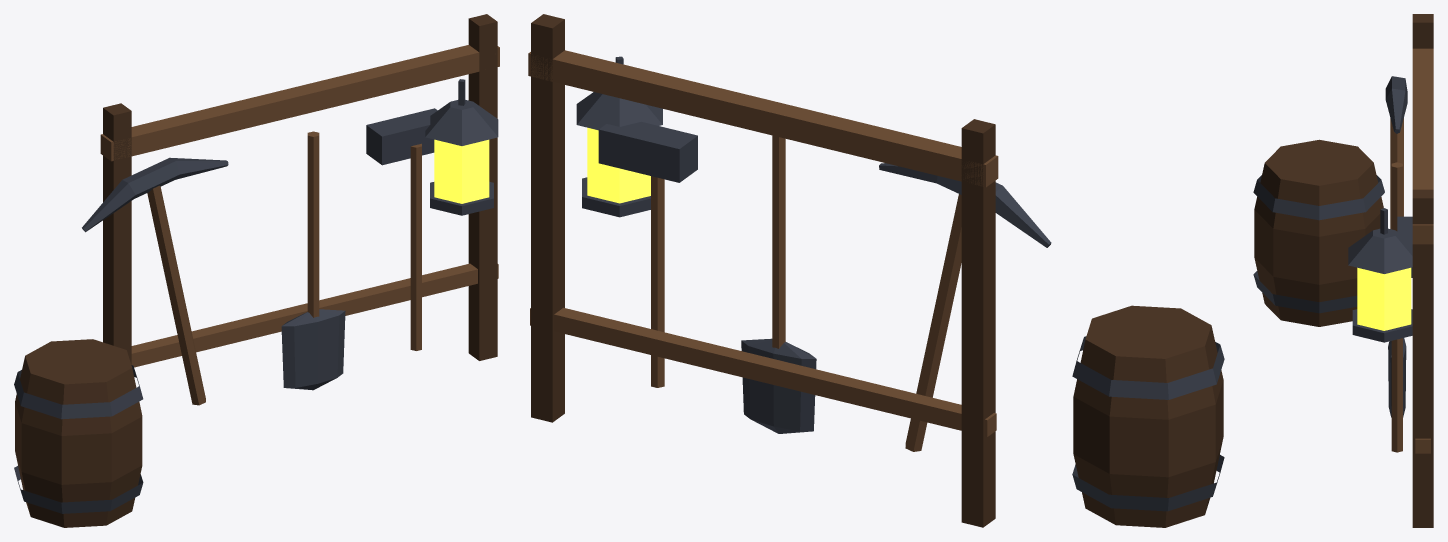
Rendered from Mine_ToolRack.fbx.
The picture shows the model from 3 angles, left to right: view 1: azimuth 30°, elevation 25°; view 2: azimuth 150°, elevation 25°; view 3: azimuth 270°, elevation 25°; orthographic projection. The views are drawn at different scales.
Parts seen in each view (by area): view 1: Mine_ToolRack_Body; view 2: Mine_ToolRack_Body; view 3: Mine_ToolRack_Body.
Boxes of the visible parts, <box> form: Mine_ToolRack_Body: <box>14,14,499,527</box>; Mine_ToolRack_Body: <box>528,14,1224,527</box>; Mine_ToolRack_Body: <box>1253,14,1433,527</box>.
Size of the model in its own units: 2.3 by 1.4 by 0.6936.
